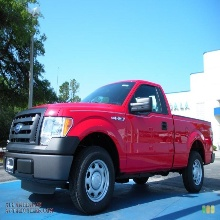no damage: (4, 80, 215, 215)
